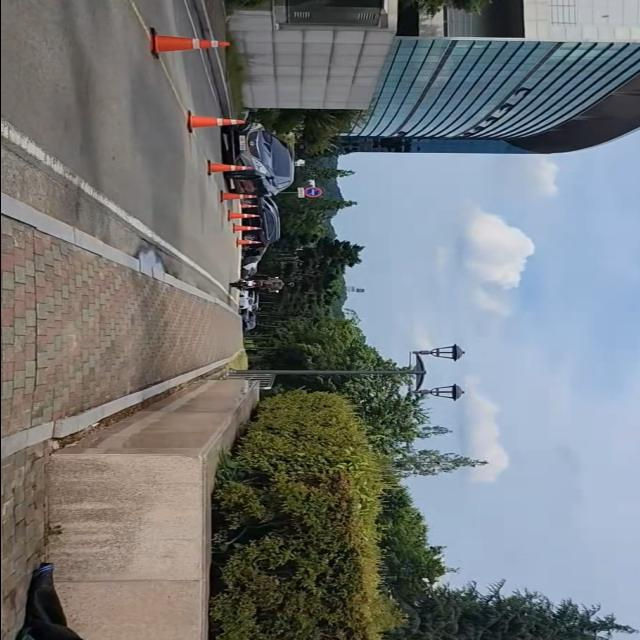obstacle: (225, 117, 300, 204), (137, 25, 233, 65), (177, 110, 255, 137), (225, 273, 297, 296)
sidewalk: (0, 187, 242, 453), (196, 0, 226, 78)
